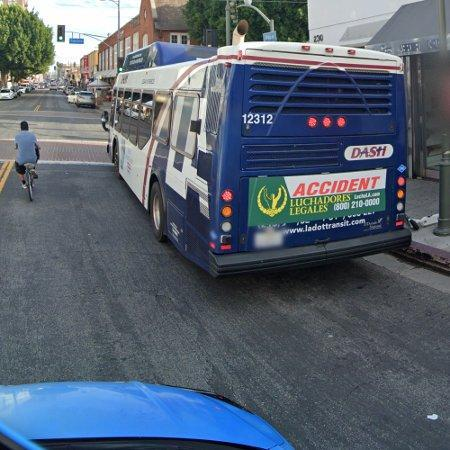buses: (109, 22, 412, 276)
